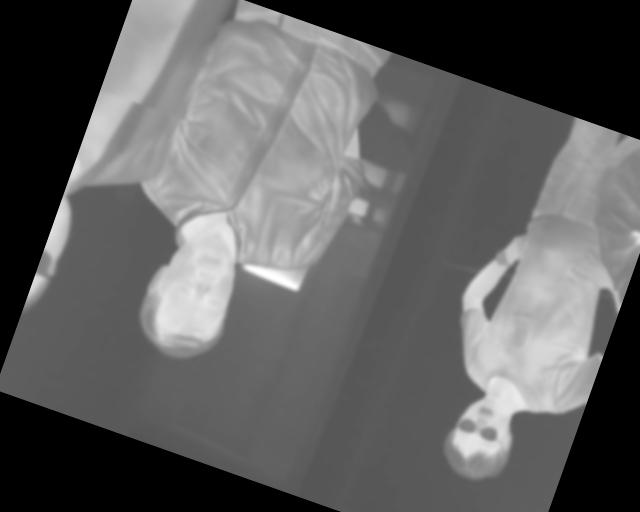face: (126, 226, 248, 371), (435, 387, 527, 491)
